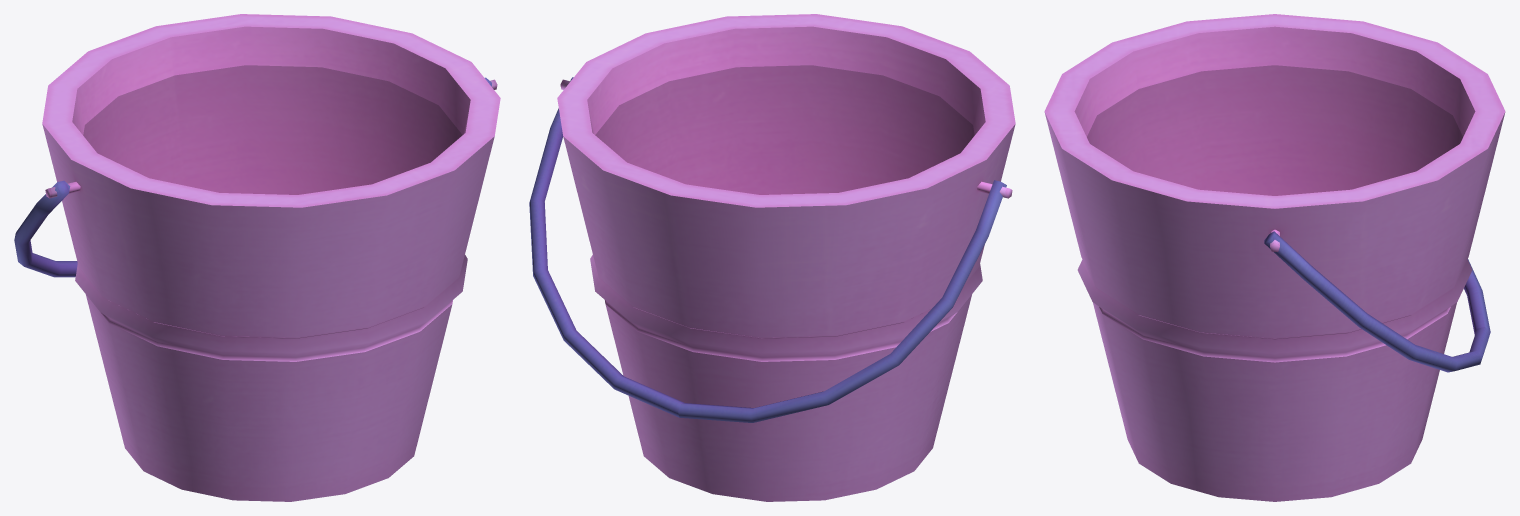
File: bucket01_model.fbx
3 renders of one model, left to right at view 1: azimuth 30°, elevation 25°; view 2: azimuth 150°, elevation 25°; view 3: azimuth 270°, elevation 25°, orthographic.
Parts seen in each view (by area): view 1: bucket01_mesh, bucket01_water_mesh; view 2: bucket01_mesh, bucket01_water_mesh; view 3: bucket01_mesh, bucket01_water_mesh.
Boxes of the visible parts, x1,y1,x2,y2 form: bucket01_mesh: (14, 14, 500, 501); bucket01_water_mesh: (83, 65, 461, 194); bucket01_mesh: (529, 14, 1015, 501); bucket01_water_mesh: (596, 65, 974, 194); bucket01_mesh: (1044, 14, 1505, 501); bucket01_water_mesh: (1087, 65, 1462, 195).
Bounding box in the file's own units: 23.24 × 16.36 × 20.82.
